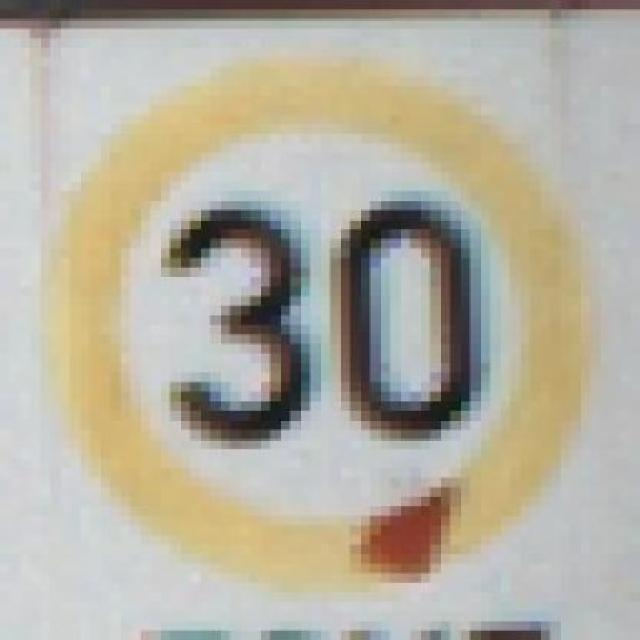Speed Limit 30 KMPh: (20, 48, 611, 583)
